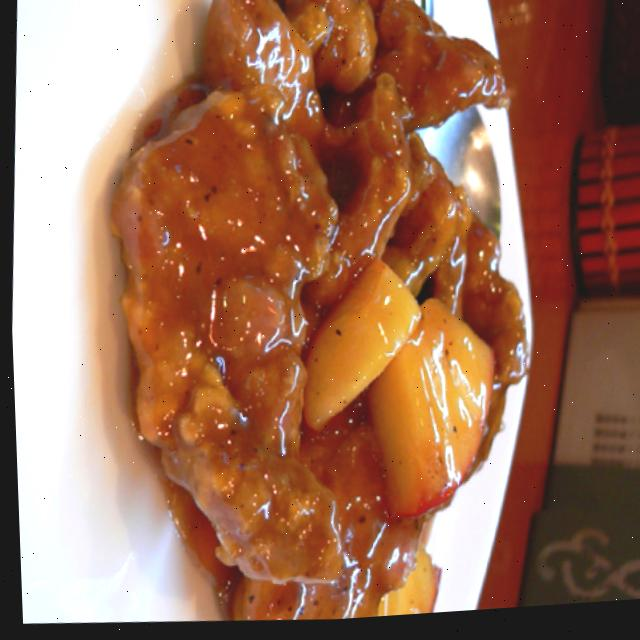猪肉菜式: (78, 0, 556, 636)
